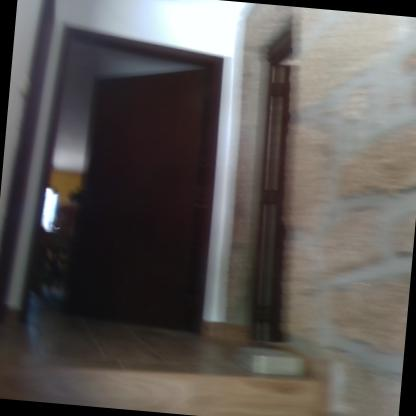semi: (13, 11, 252, 363)
